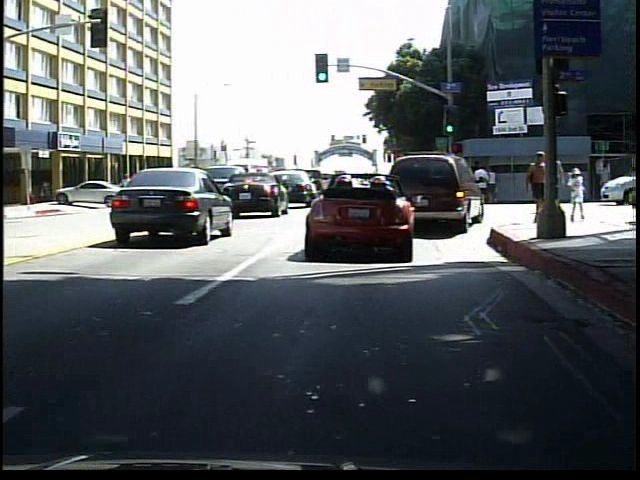person: (520, 149, 550, 222), (562, 170, 588, 223), (125, 172, 143, 205)
